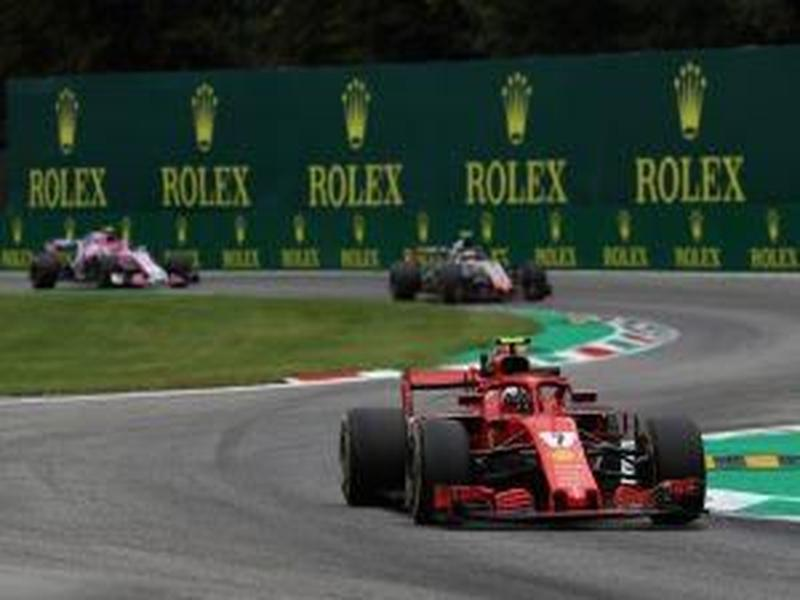f1: (326, 351, 753, 544)
